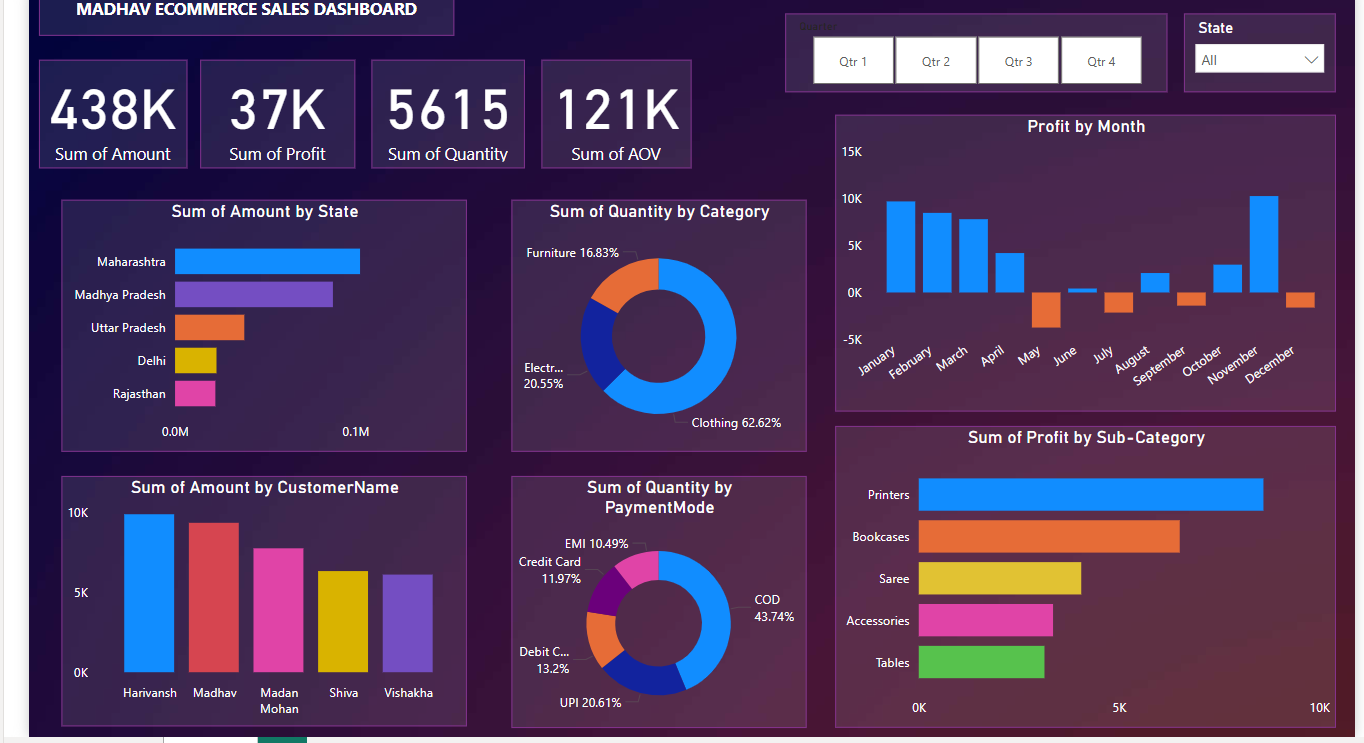

Layout of this report page (visuals, bound fields, positions):
{"tool":"powerbi","page":{"name":"Page 1","canvas":[1280,720],"ordinal":0},"visuals":[{"type":"textbox","box":[9.4,0,400.6,43.5],"z":0},{"type":"columnChart","title":"Profit by Month","fields":{"Y":["Details(1).Profit"],"Category":["Orders(1).Order Date.Variation.Date Hierarchy.Month"]},"box":[777.8,119.3,483.5,286.3],"z":1000},{"type":"barChart","fields":{"Category":["Details(1).Sub-Category"],"Y":["Details(1).Profit"]},"box":[777.8,419.9,483.5,291.1],"z":2000},{"type":"donutChart","fields":{"Category":["Details(1).Category"],"Y":["Details(1).Quantity"]},"box":[466,202,284.7,243.4],"z":3000},{"type":"donutChart","fields":{"Category":["Details(1).PaymentMode"],"Y":["Details(1).Quantity"]},"box":[466,467.6,284.7,243.4],"z":4000},{"type":"card","fields":{"Values":["Details(1).Amount"]},"box":[9.5,66.8,143.2,105],"z":5000},{"type":"card","fields":{"Values":["Details(1).Profit"]},"box":[165.4,66.8,149.5,105],"z":6000},{"type":"card","fields":{"Values":["Details(1).Quantity"]},"box":[330.8,66.8,147.9,105],"z":7000},{"type":"card","fields":{"Values":["Details(1).AOV"]},"box":[494.7,66.8,144.7,105],"z":8000},{"type":"columnChart","fields":{"Category":["Orders(1).CustomerName"],"Y":["Details(1).Amount"]},"box":[31.8,467.6,391.3,241.8],"z":9000},{"type":"barChart","fields":{"Y":["Details(1).Amount"],"Category":["Orders(1).State"]},"box":[31.8,202,391.3,243.4],"z":10000},{"type":"slicer","fields":{"Values":["Orders(1).Order Date.Variation.Date Hierarchy.Quarter"]},"box":[730.1,22.3,369,76.3],"z":11000},{"type":"slicer","fields":{"Values":["Orders(1).State"]},"box":[1115,22.3,146.3,76.3],"z":12000}]}

Visuals, with their boxes in screenshot pixels (x1, y1, x2, y2):
textbox: bbox=[31, 0, 454, 28]
"Profit by Month" columnChart: bbox=[841, 108, 1351, 410]
barChart - Details(1).Sub-Category x Details(1).Profit: bbox=[841, 425, 1351, 732]
donutChart - Details(1).Category x Details(1).Quantity: bbox=[513, 195, 813, 452]
donutChart - Details(1).PaymentMode x Details(1).Quantity: bbox=[513, 475, 813, 732]
card - Details(1).Amount: bbox=[31, 53, 182, 163]
card - Details(1).Profit: bbox=[196, 53, 353, 163]
card - Details(1).Quantity: bbox=[370, 53, 526, 163]
card - Details(1).AOV: bbox=[543, 53, 695, 163]
columnChart - Orders(1).CustomerName x Details(1).Amount: bbox=[55, 475, 467, 730]
barChart - Details(1).Amount x Orders(1).State: bbox=[55, 195, 467, 452]
slicer - Orders(1).Order Date.Variation.Date Hierarchy.Quarter: bbox=[791, 6, 1180, 86]
slicer - Orders(1).State: bbox=[1197, 6, 1351, 86]
